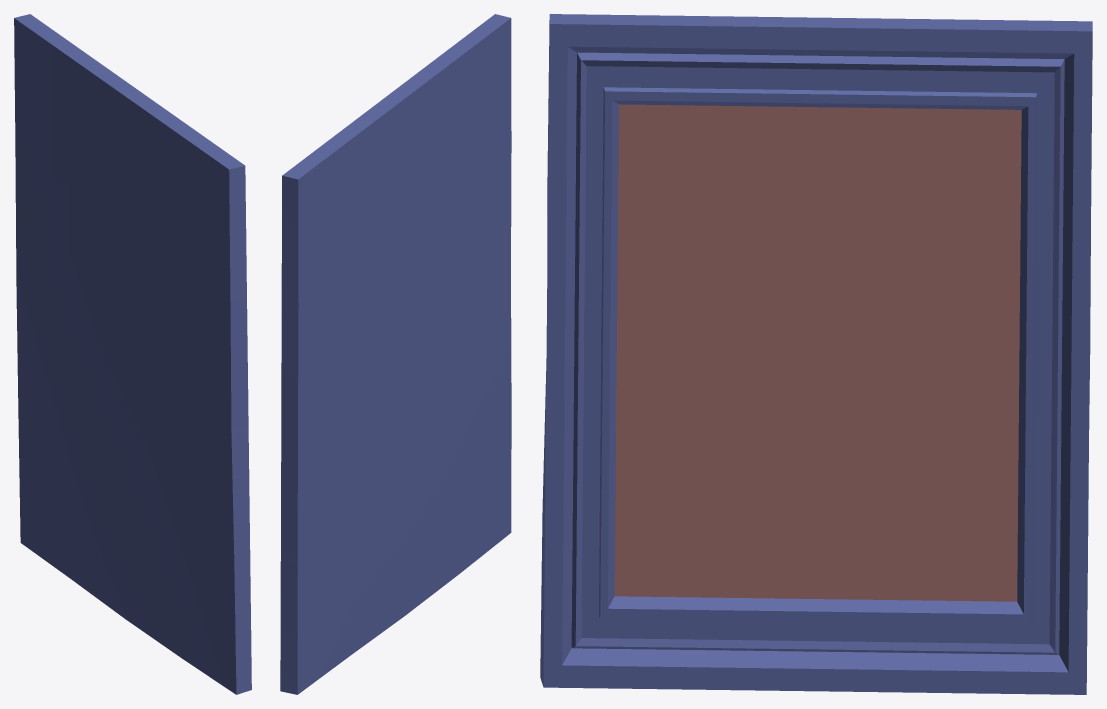
The model's file is Frame.fbx.
3 renders of one model, left to right at view 1: azimuth 30°, elevation 25°; view 2: azimuth 150°, elevation 25°; view 3: azimuth 270°, elevation 25°, orthographic. The views are drawn at different scales.
Parts seen in each view (by area): view 1: Frame; view 2: Frame; view 3: Image, Frame.
Boxes of the visible parts, left/top/right/bottom form: Frame: left=14, top=14, right=251, bottom=694; Frame: left=280, top=14, right=511, bottom=694; Image: left=614, top=104, right=1021, bottom=601; Frame: left=540, top=14, right=1092, bottom=694.
Size of the model in its own units: 0.0685 by 1.7 by 1.27.
